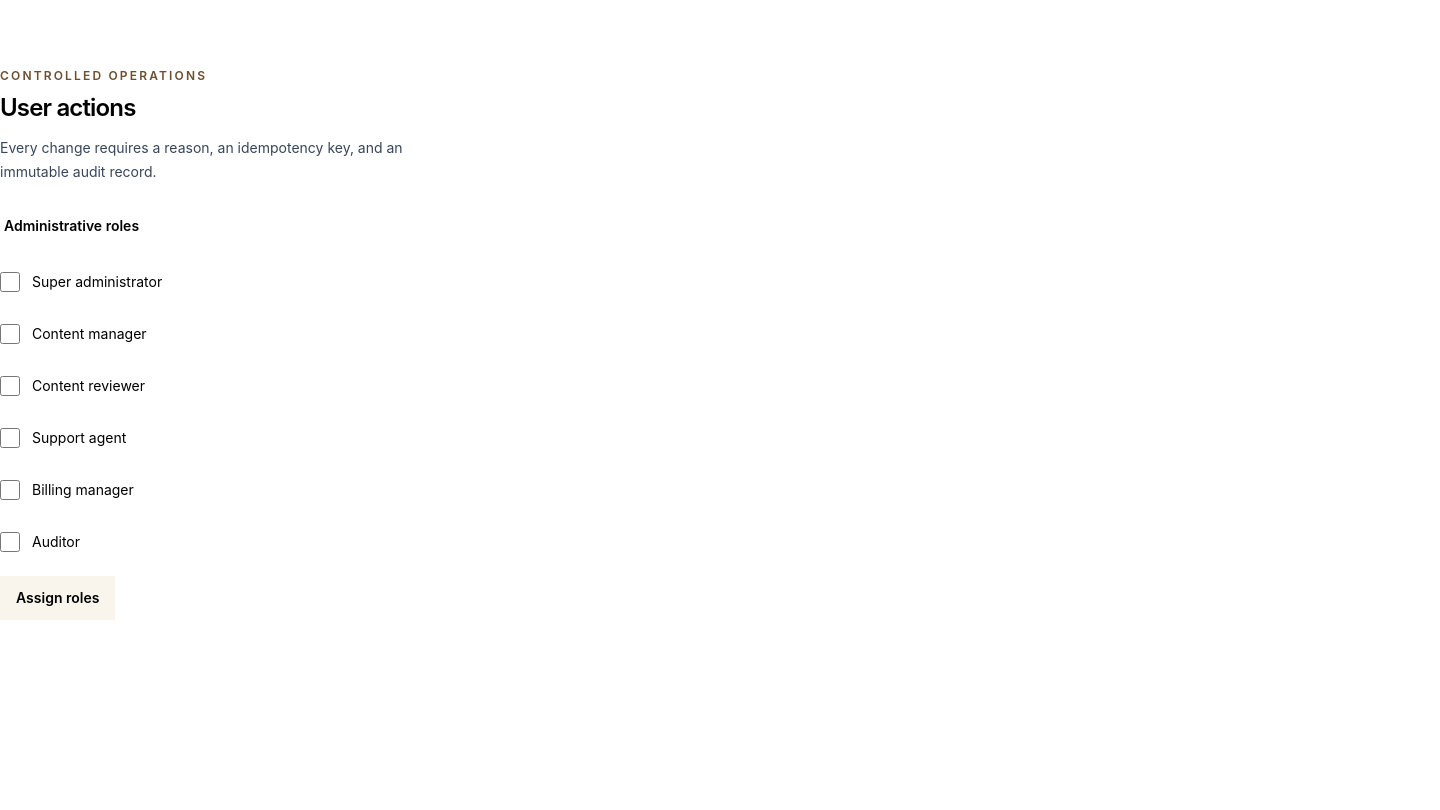
administrative user actions › uses a native accessible step-up dialog for role assignment
Click the button "Assign roles": (58, 598) [0, 576, 115, 620]
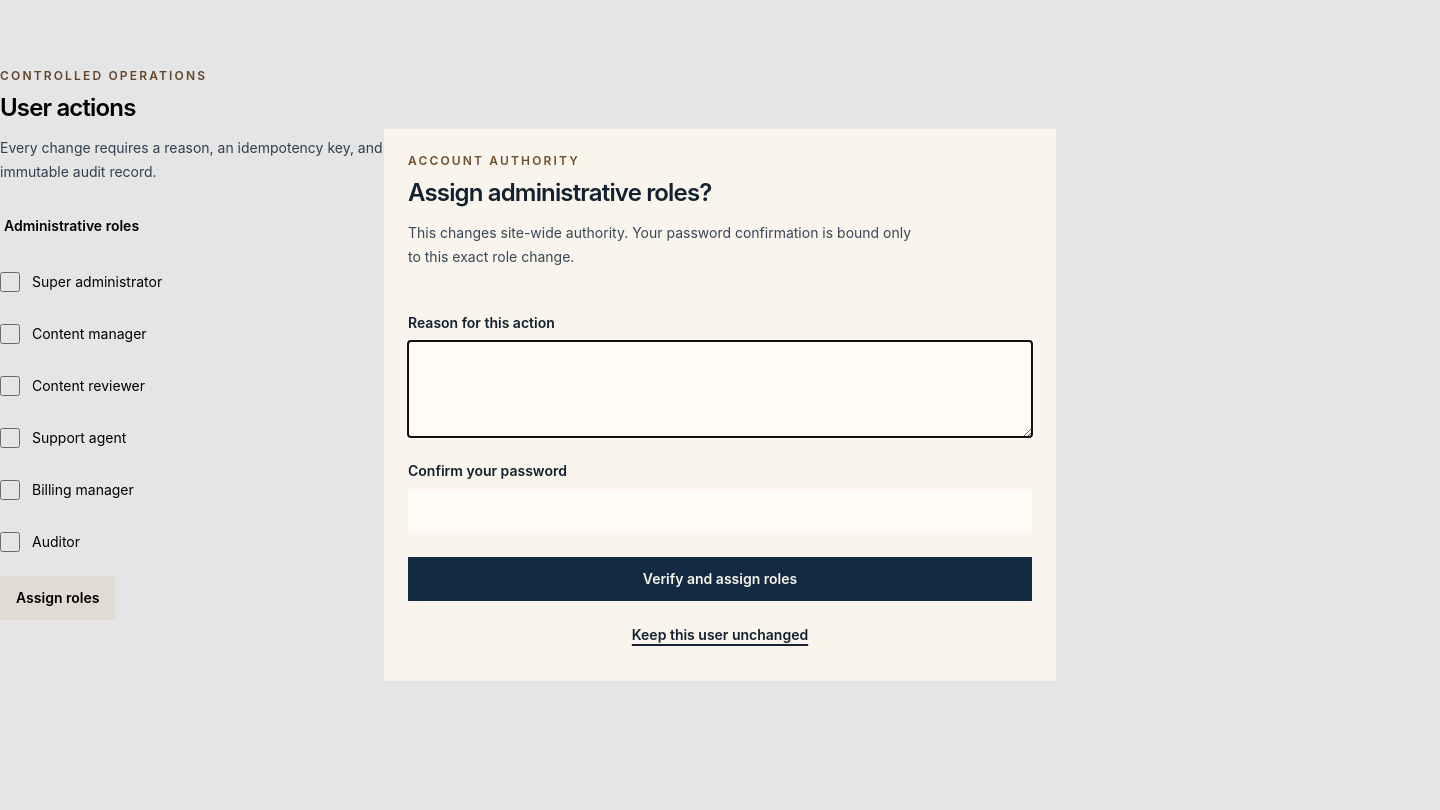
Expected: the text box labelled "Reason for this action" is shown, [408, 341, 1032, 437]
Expected: the button "Verify and assign roles" is shown, [408, 557, 1032, 601]
